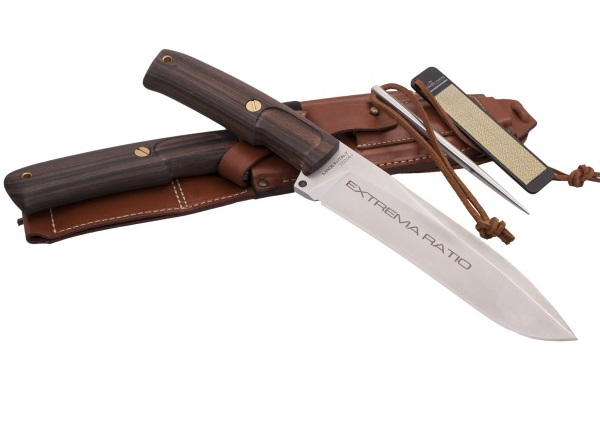knife: (301, 144, 583, 347)
